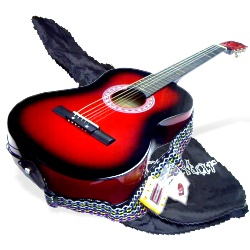guitar: (7, 41, 247, 203)
